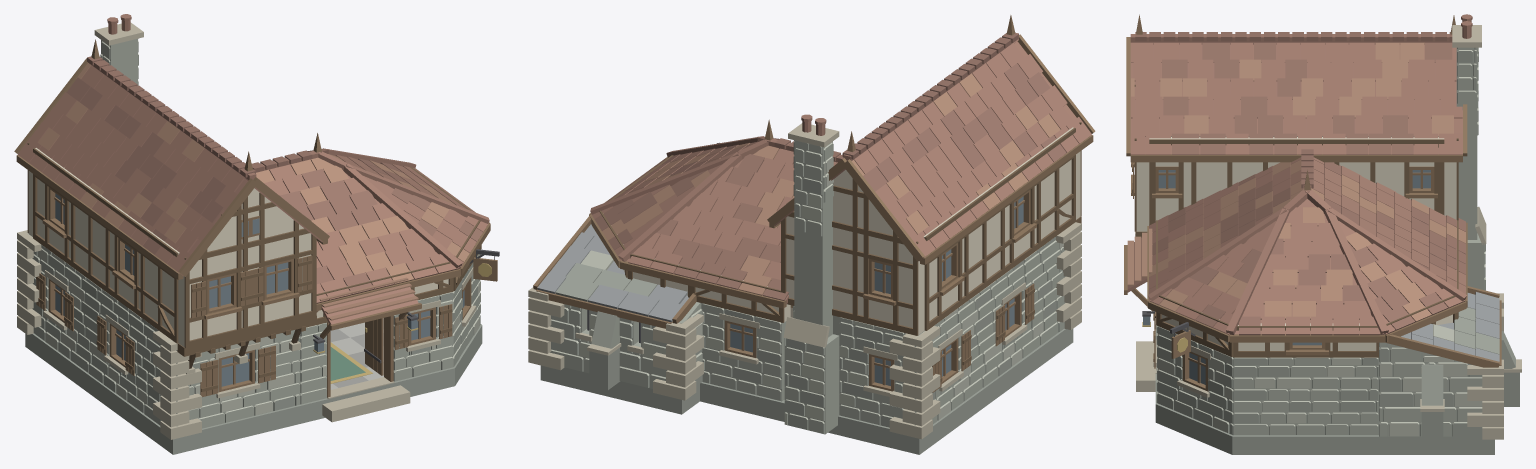
The model's file is bank.glb.
3 views of the same model, side by side, from view 1: azimuth 30°, elevation 25°; view 2: azimuth 150°, elevation 25°; view 3: azimuth 270°, elevation 25° (orthographic). The views are drawn at different scales.
Parts seen in each view (by area): view 1: Bank_RoofTiles, Bank_ShellFacing, Bank_UpperShellTimber, Bank_RoofTrim, Bank_UpperShell, Bank_FloorPlinth, Bank_ShellWindows, Bank_ShellQuoins, Bank_UpperShellWindows, Bank_RoofHood, Bank_UpperChimney, Bank_ShellJetty (+10 smaller); view 2: Bank_RoofTiles, Bank_ShellFacing, Bank_RoofTrim, Bank_ShellQuoins, Bank_UpperShell, Bank_UpperShellTimber, Bank_FloorPlinth, Bank_UpperChimney, Bank_ShellChimneyBase, Bank_RoofSlabStones, Bank_ShellStone, Bank_ShellWindows (+6 smaller); view 3: Bank_RoofTiles, Bank_ShellFacing, Bank_RoofTrim, Bank_FloorPlinth, Bank_UpperShell, Bank_ShellStone, Bank_UpperChimney, Bank_UpperShellTimber, Bank_RoofSlabStones, Bank_RoofSlab, Bank_ShellFriezeTimber, Bank_ShellQuoins (+9 smaller).
Boxes of the visible parts, <box> form: Bank_RoofTiles: <box>17,63,488,303</box>; Bank_ShellFacing: <box>26,232,480,428</box>; Bank_UpperShellTimber: <box>27,142,316,348</box>; Bank_RoofTrim: <box>14,39,490,310</box>; Bank_UpperShell: <box>28,148,311,347</box>; Bank_FloorPlinth: <box>25,324,482,454</box>; Bank_ShellWindows: <box>36,267,476,398</box>; Bank_ShellQuoins: <box>17,230,201,439</box>; Bank_UpperShellWindows: <box>42,187,312,319</box>; Bank_RoofHood: <box>319,277,421,330</box>; Bank_UpperChimney: <box>94,14,143,85</box>; Bank_ShellJetty: <box>177,316,316,374</box>; Bank_RoofTiles: <box>591,39,1091,300</box>; Bank_ShellFacing: <box>550,237,1065,427</box>; Bank_RoofTrim: <box>533,15,1095,328</box>; Bank_ShellQuoins: <box>528,222,1081,439</box>; Bank_UpperShell: <box>786,127,1080,334</box>; Bank_UpperShellTimber: <box>781,122,1081,335</box>; Bank_FloorPlinth: <box>540,328,1073,454</box>; Bank_UpperChimney: <box>788,114,839,321</box>; Bank_ShellChimneyBase: <box>783,315,839,434</box>; Bank_RoofSlabStones: <box>537,232,687,322</box>; Bank_ShellStone: <box>552,240,1062,425</box>; Bank_ShellWindows: <box>575,282,1034,396</box>; Bank_RoofTiles: <box>1131,42,1465,335</box>; Bank_ShellFacing: <box>1156,326,1482,436</box>; Bank_RoofTrim: <box>1126,14,1501,367</box>; Bank_FloorPlinth: <box>1155,329,1494,454</box>; Bank_UpperShell: <box>1136,136,1456,231</box>; Bank_ShellStone: <box>1158,331,1519,446</box>; Bank_UpperChimney: <box>1452,14,1481,220</box>; Bank_UpperShellTimber: <box>1134,84,1458,231</box>; Bank_RoofSlabStones: <box>1411,292,1499,361</box>; Bank_RoofSlab: <box>1130,43,1474,365</box>; Bank_ShellFriezeTimber: <box>1155,220,1458,357</box>; Bank_ShellQuoins: <box>1420,293,1521,439</box>.
Size of the model in its own units: 12.43 by 9.58 by 11.13.
